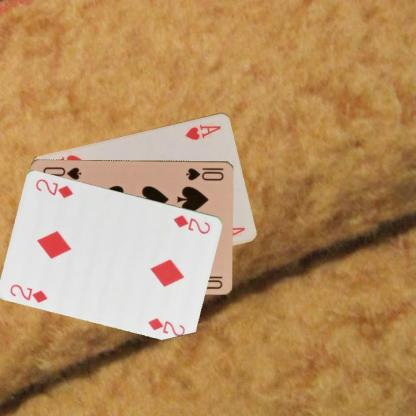10s: (183, 165, 225, 182)
2d: (171, 212, 212, 235), (8, 281, 49, 304)
Ah: (182, 121, 223, 141)
